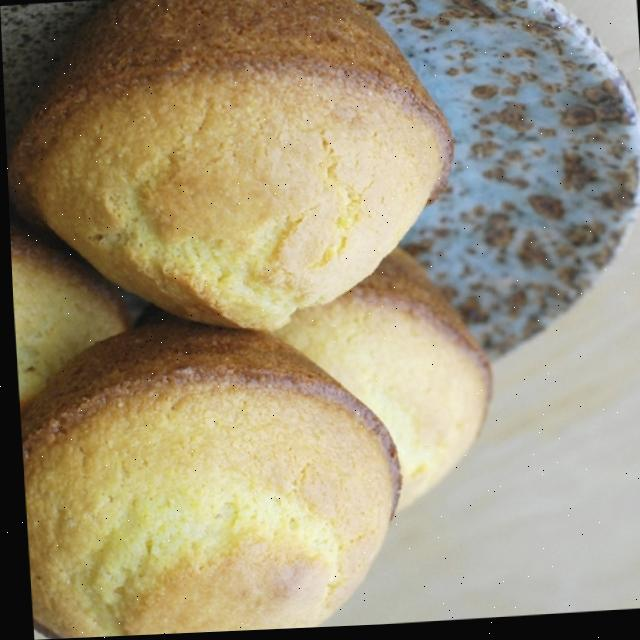炸货点心: (0, 0, 500, 640)
面包点心: (0, 0, 500, 640)
